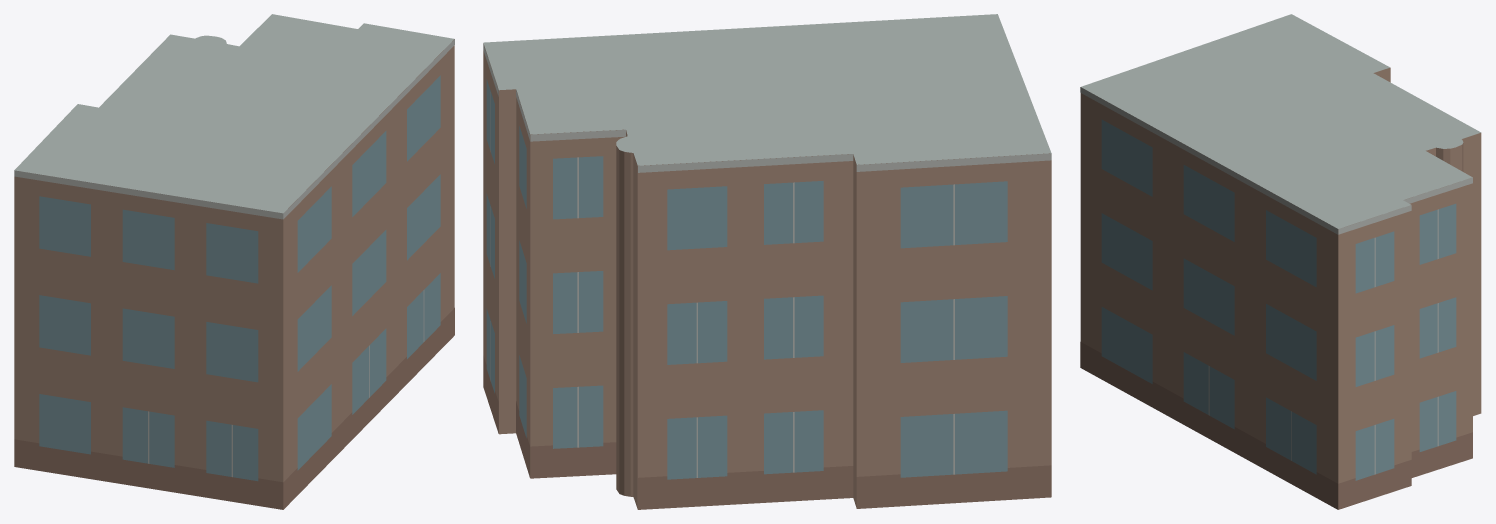
Rendered from survey-upis-32486912.glb.
3 views of the same model, side by side, from view 1: azimuth 30°, elevation 25°; view 2: azimuth 150°, elevation 25°; view 3: azimuth 270°, elevation 25° (orthographic). The views are drawn at different scales.
Parts seen in each view (by area): view 1: survey-upis-32486912.tmp; view 2: survey-upis-32486912.tmp; view 3: survey-upis-32486912.tmp.
Part boxes in pixels (left/top/right/bottom): survey-upis-32486912.tmp: left=14, top=14, right=454, bottom=509; survey-upis-32486912.tmp: left=483, top=14, right=1051, bottom=509; survey-upis-32486912.tmp: left=1080, top=14, right=1481, bottom=509.
Bounding box in the file's own units: 19.3 × 11.75 × 15.21.
